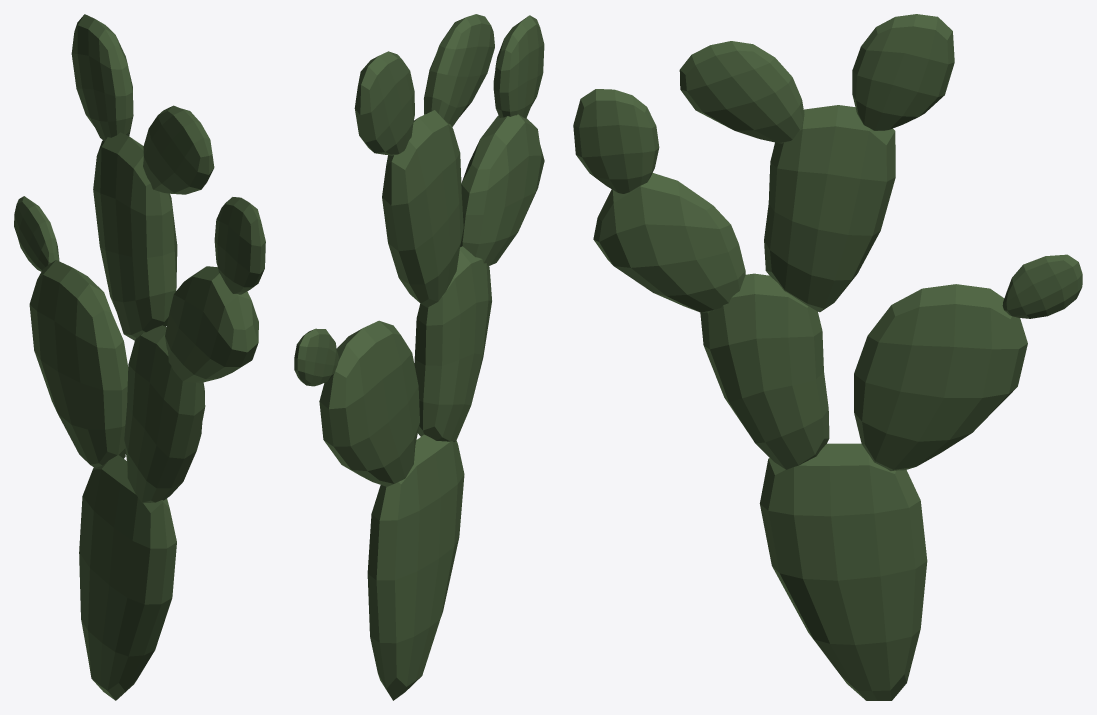
The model's file is Cactus_4.gltf.
3 views of the same model, side by side, from view 1: azimuth 30°, elevation 25°; view 2: azimuth 150°, elevation 25°; view 3: azimuth 270°, elevation 25° (orthographic). The views are drawn at different scales.
Parts seen in each view (by area): view 1: Cactus_4; view 2: Cactus_4; view 3: Cactus_4.
Boxes of the visible parts, x1,y1,x2,y2 form: Cactus_4: [14, 14, 265, 700]; Cactus_4: [294, 14, 544, 700]; Cactus_4: [573, 14, 1082, 700].
Bounding box in the file's own units: 0.11 × 1.37 × 0.919.
